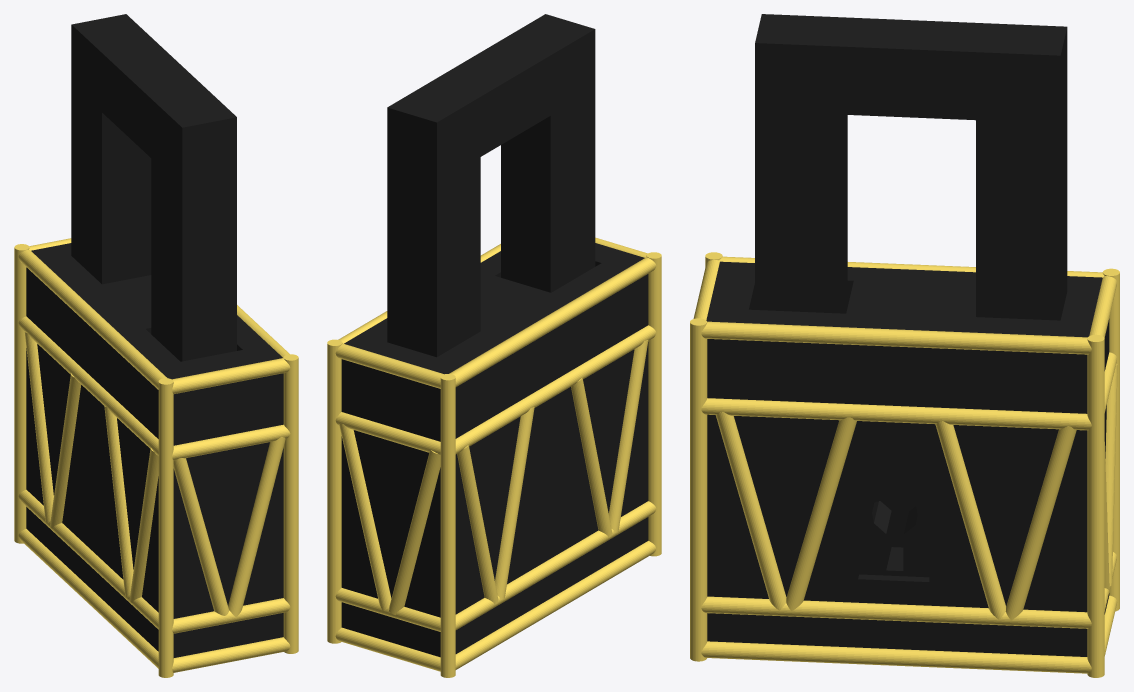
File: lock_C-1.fbx
3 renders of one model, left to right at view 1: azimuth 30°, elevation 25°; view 2: azimuth 150°, elevation 25°; view 3: azimuth 270°, elevation 25°, orthographic. The views are drawn at different scales.
Visible parts, largest first — view 1: Cube.208; view 2: Cube.208; view 3: Cube.208.
Boxes of the visible parts, bbox=[...] form: Cube.208: bbox=[14, 14, 298, 677]; Cube.208: bbox=[327, 14, 661, 677]; Cube.208: bbox=[690, 14, 1119, 677].
Size of the model in its own units: 2.47 by 7.66 by 4.99.
